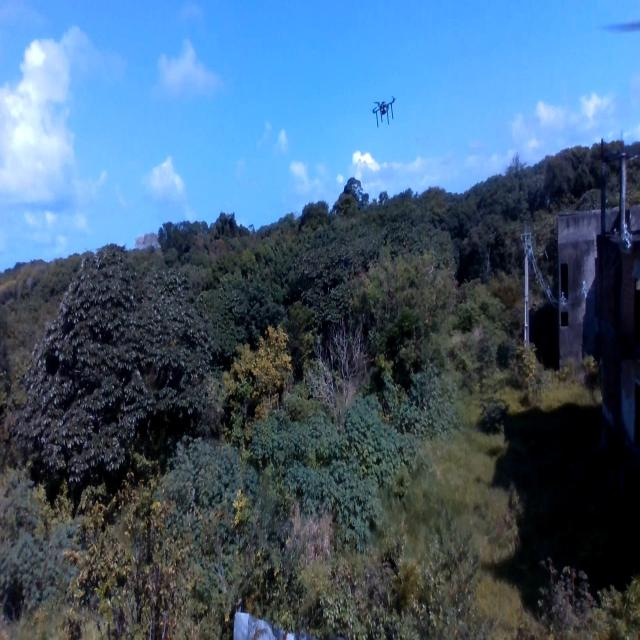-uav-: (367, 88, 399, 130)
